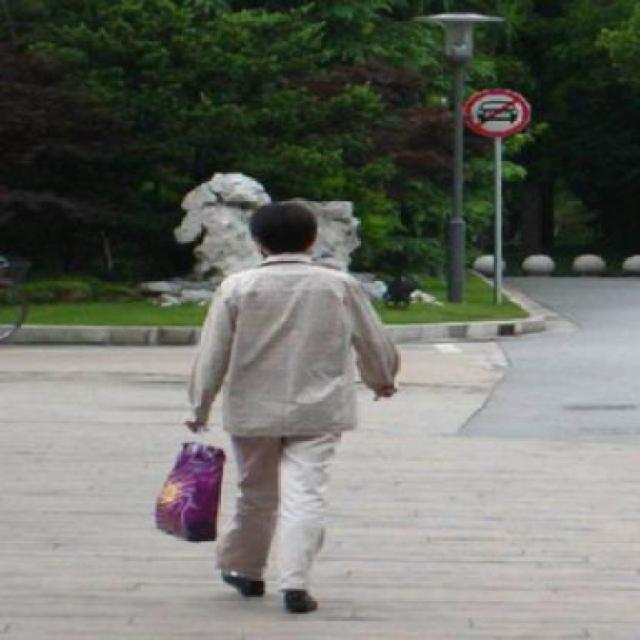Person: (190, 198, 399, 614)
